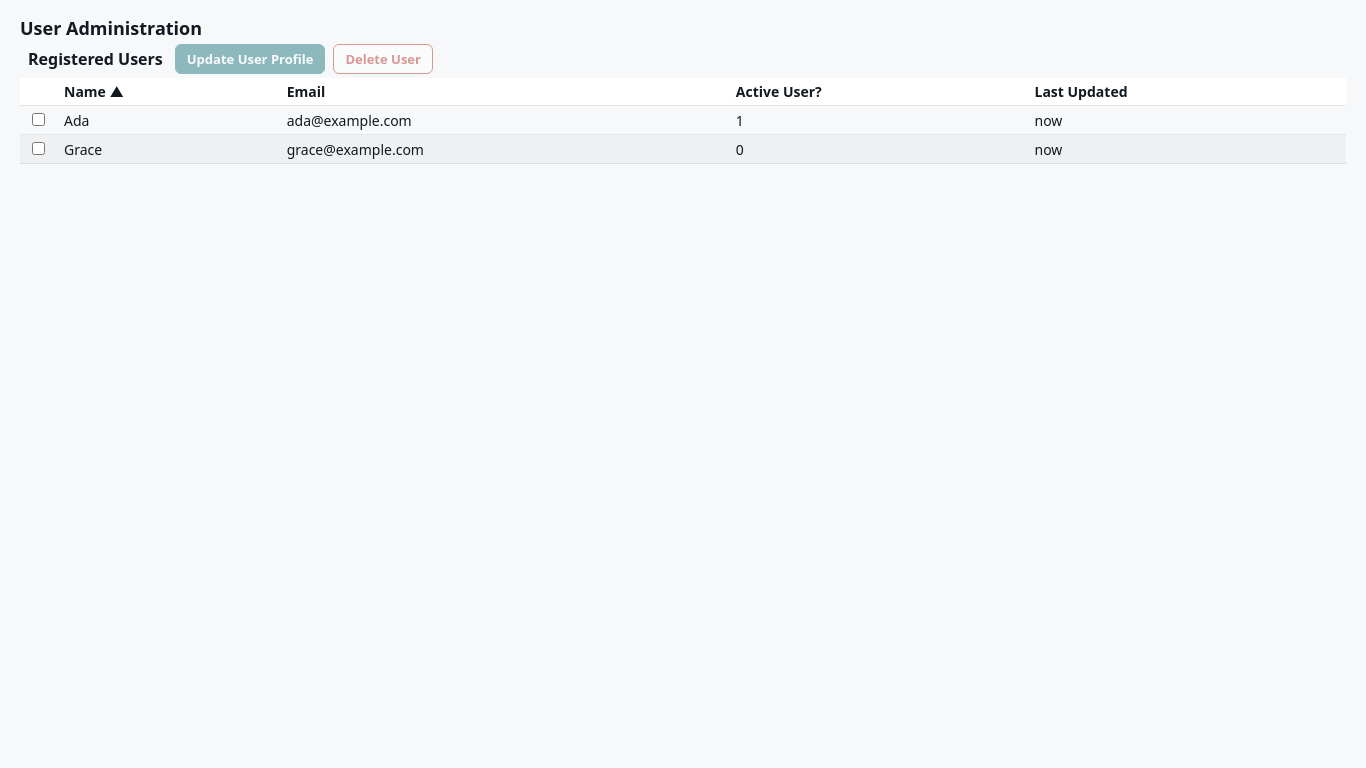
Test: the edit dialog › posts the email, the status and the roles to update/users
Expected: the text "ada@example.com" is shown, x1=279 y1=106 x2=728 y2=134
Click the checkbox named "Select row 1" at (38, 120), box x1=32 y1=113 x2=45 y2=126
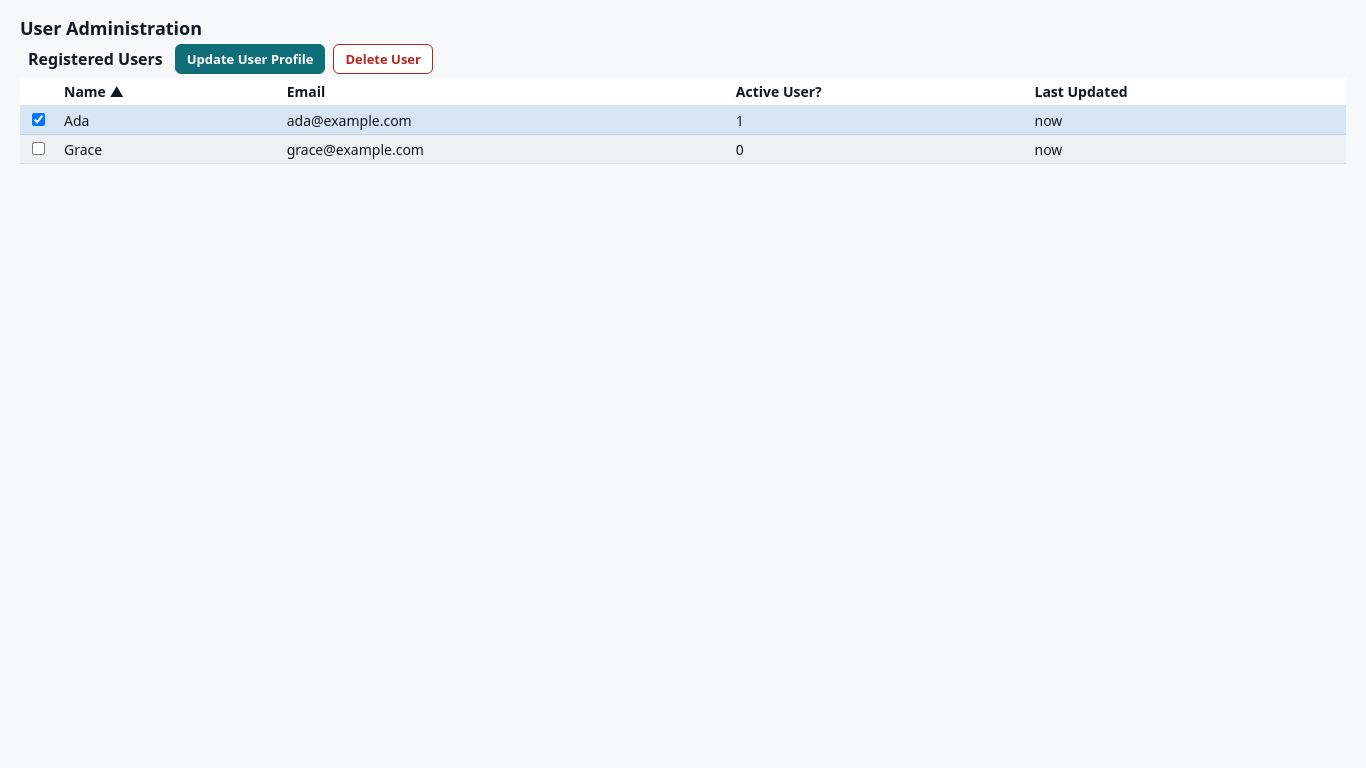
Expected: the checkbox named "Select row 1" is checked, x1=32 y1=113 x2=45 y2=126
Expected: the button "Update User Profile" is enabled
Click the button "Update User Profile" at (250, 59), box x1=175 y1=44 x2=325 y2=74
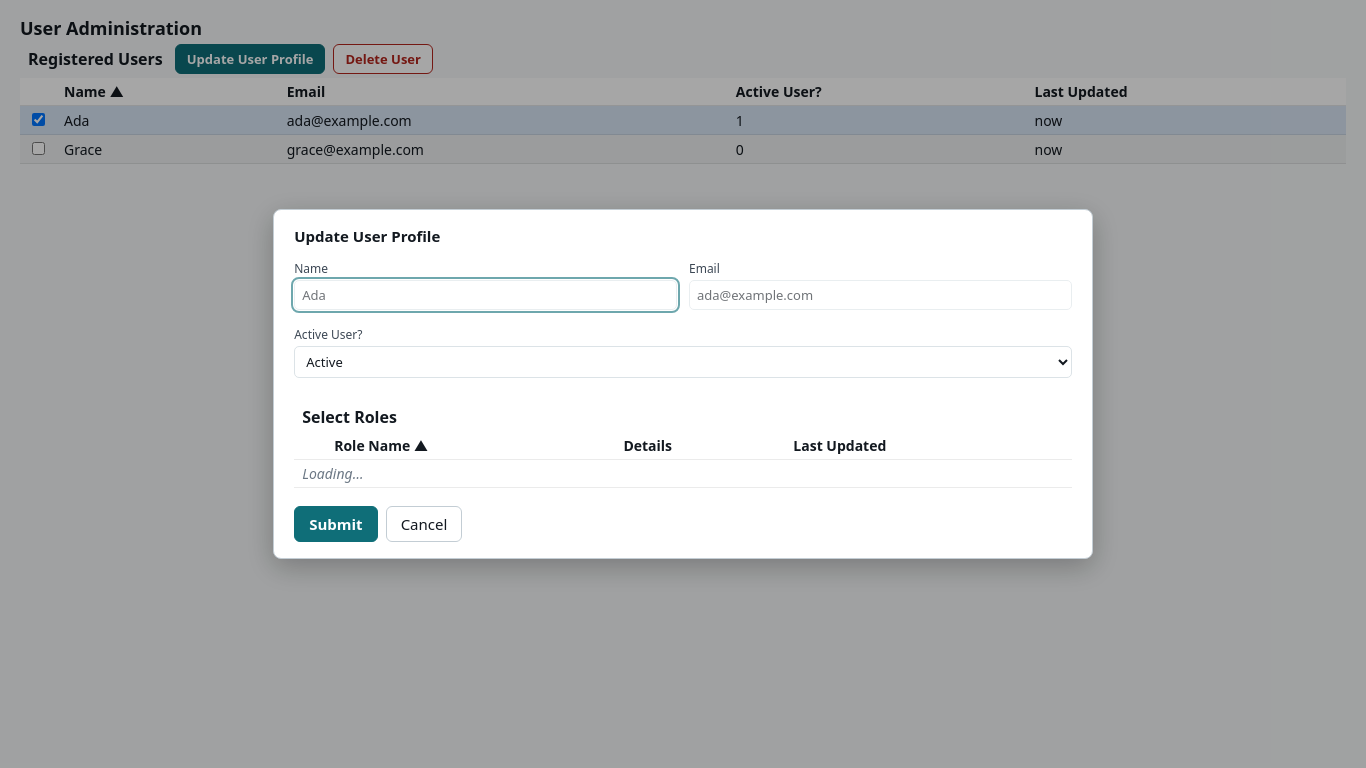
Select "Inactive" in the dropdown labelled "Active User?" at (683, 362), box x1=294 y1=346 x2=1072 y2=378
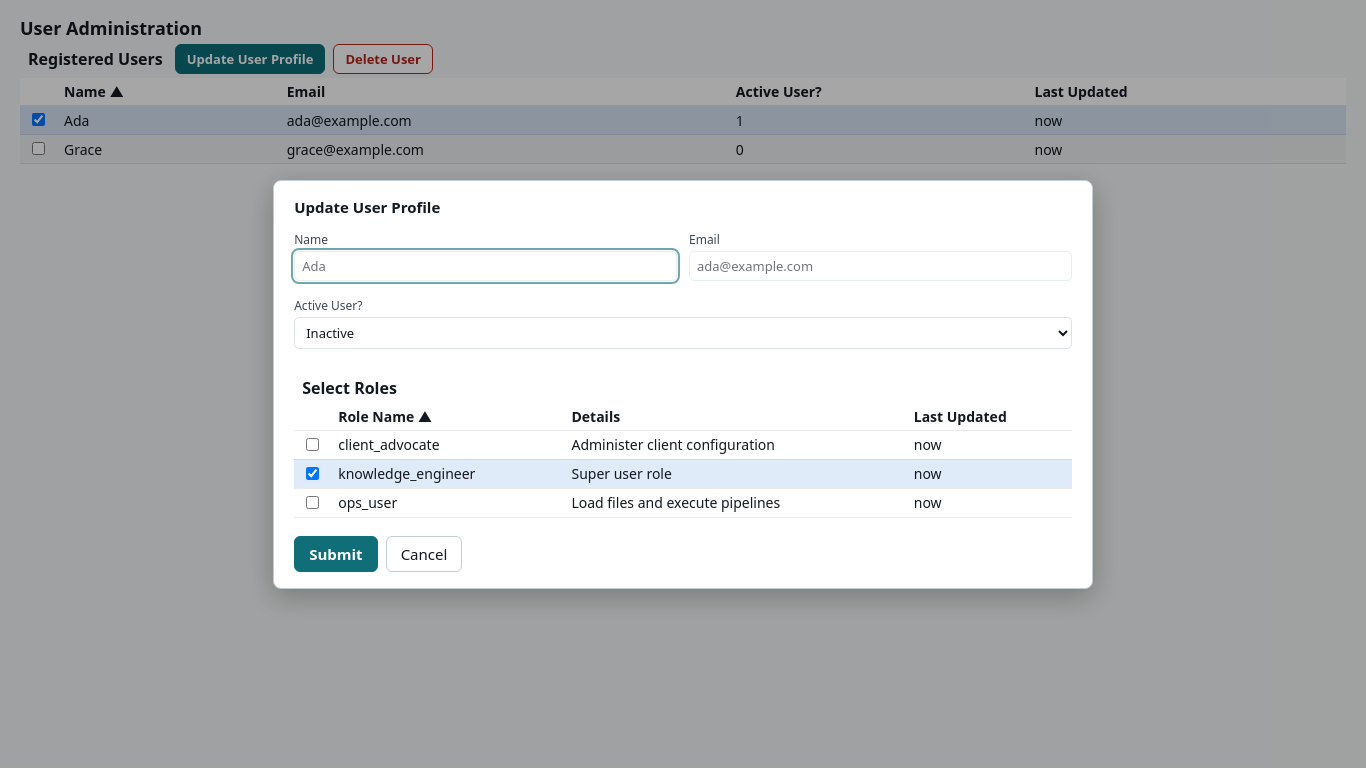
Expected: the text "knowledge_engineer" is shown, x1=330 y1=459 x2=564 y2=488
Click the checkbox named "Select row 3" at (313, 502), box x1=306 y1=496 x2=319 y2=508
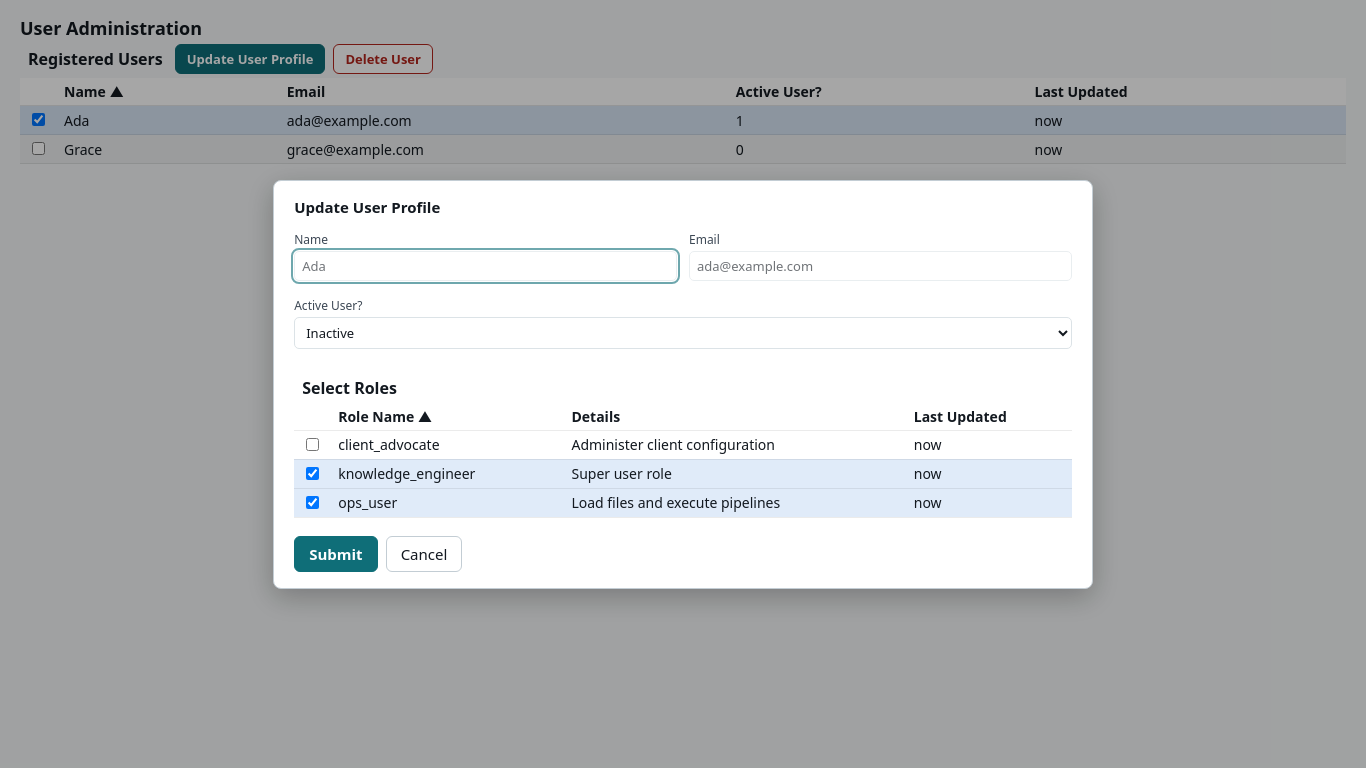
Click the button "Submit" at (336, 554), box x1=294 y1=536 x2=378 y2=572
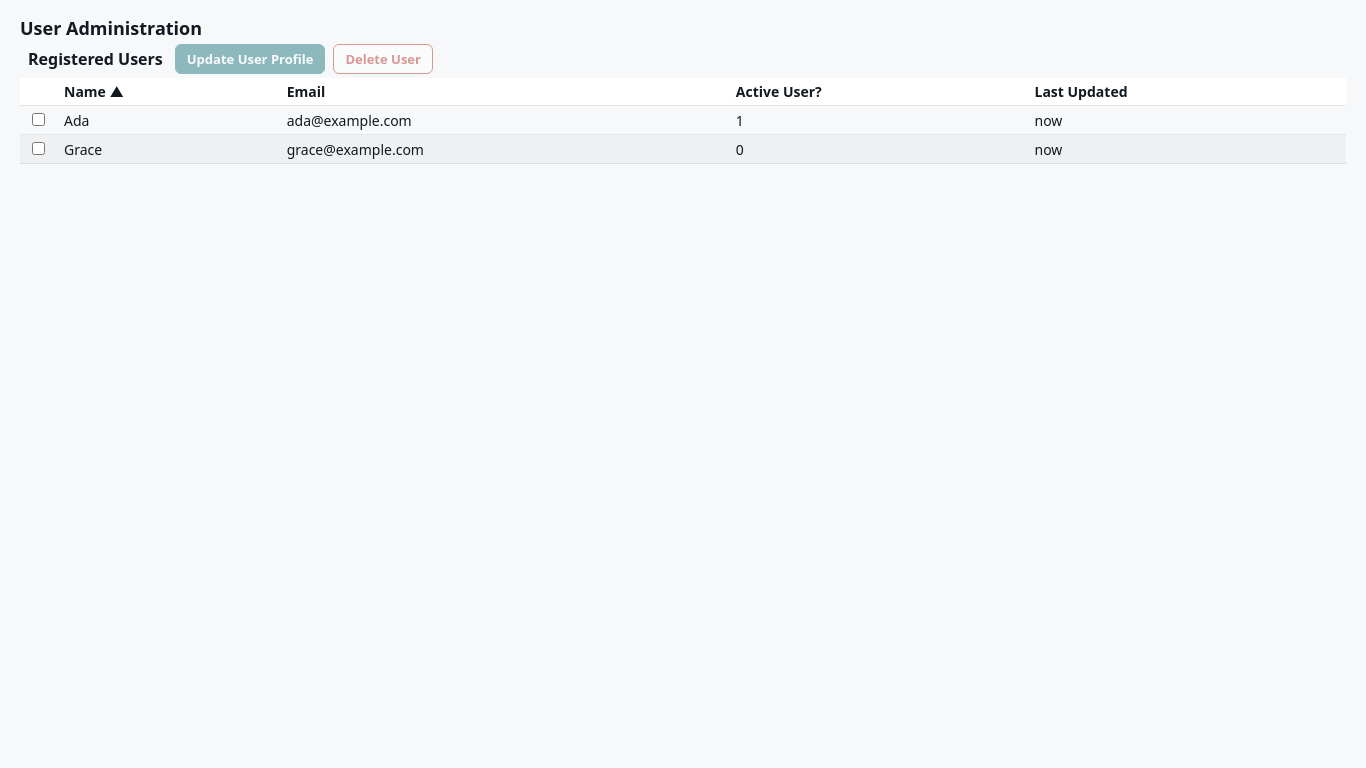
Expected: the text "ada@example.com" is shown, x1=279 y1=106 x2=728 y2=134
Expected: the dialog is gone
